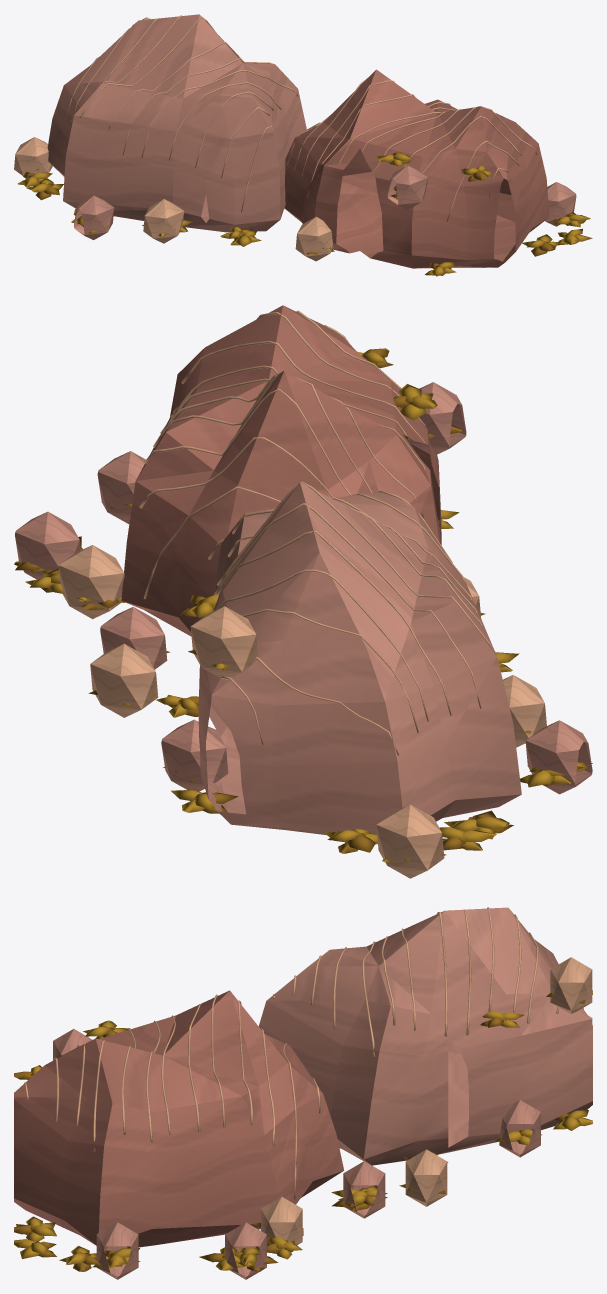
Rendered from PilotRidgeSE_0.fbx.
The picture shows the model from 3 angles, top to bottom: view 1: azimuth 30°, elevation 25°; view 2: azimuth 150°, elevation 25°; view 3: azimuth 270°, elevation 25°; orthographic projection. The views are drawn at different scales.
Visible parts, largest first — view 1: PilotRidgeSE_0__Geometry; view 2: PilotRidgeSE_0__Geometry; view 3: PilotRidgeSE_0__Geometry.
Boxes of the visible parts, left/top/right/bottom form: PilotRidgeSE_0__Geometry: left=14, top=14, right=592, bottom=276; PilotRidgeSE_0__Geometry: left=14, top=305, right=592, bottom=878; PilotRidgeSE_0__Geometry: left=14, top=907, right=592, bottom=1279.
Size of the model in its own units: 4 by 1.72 by 4.
